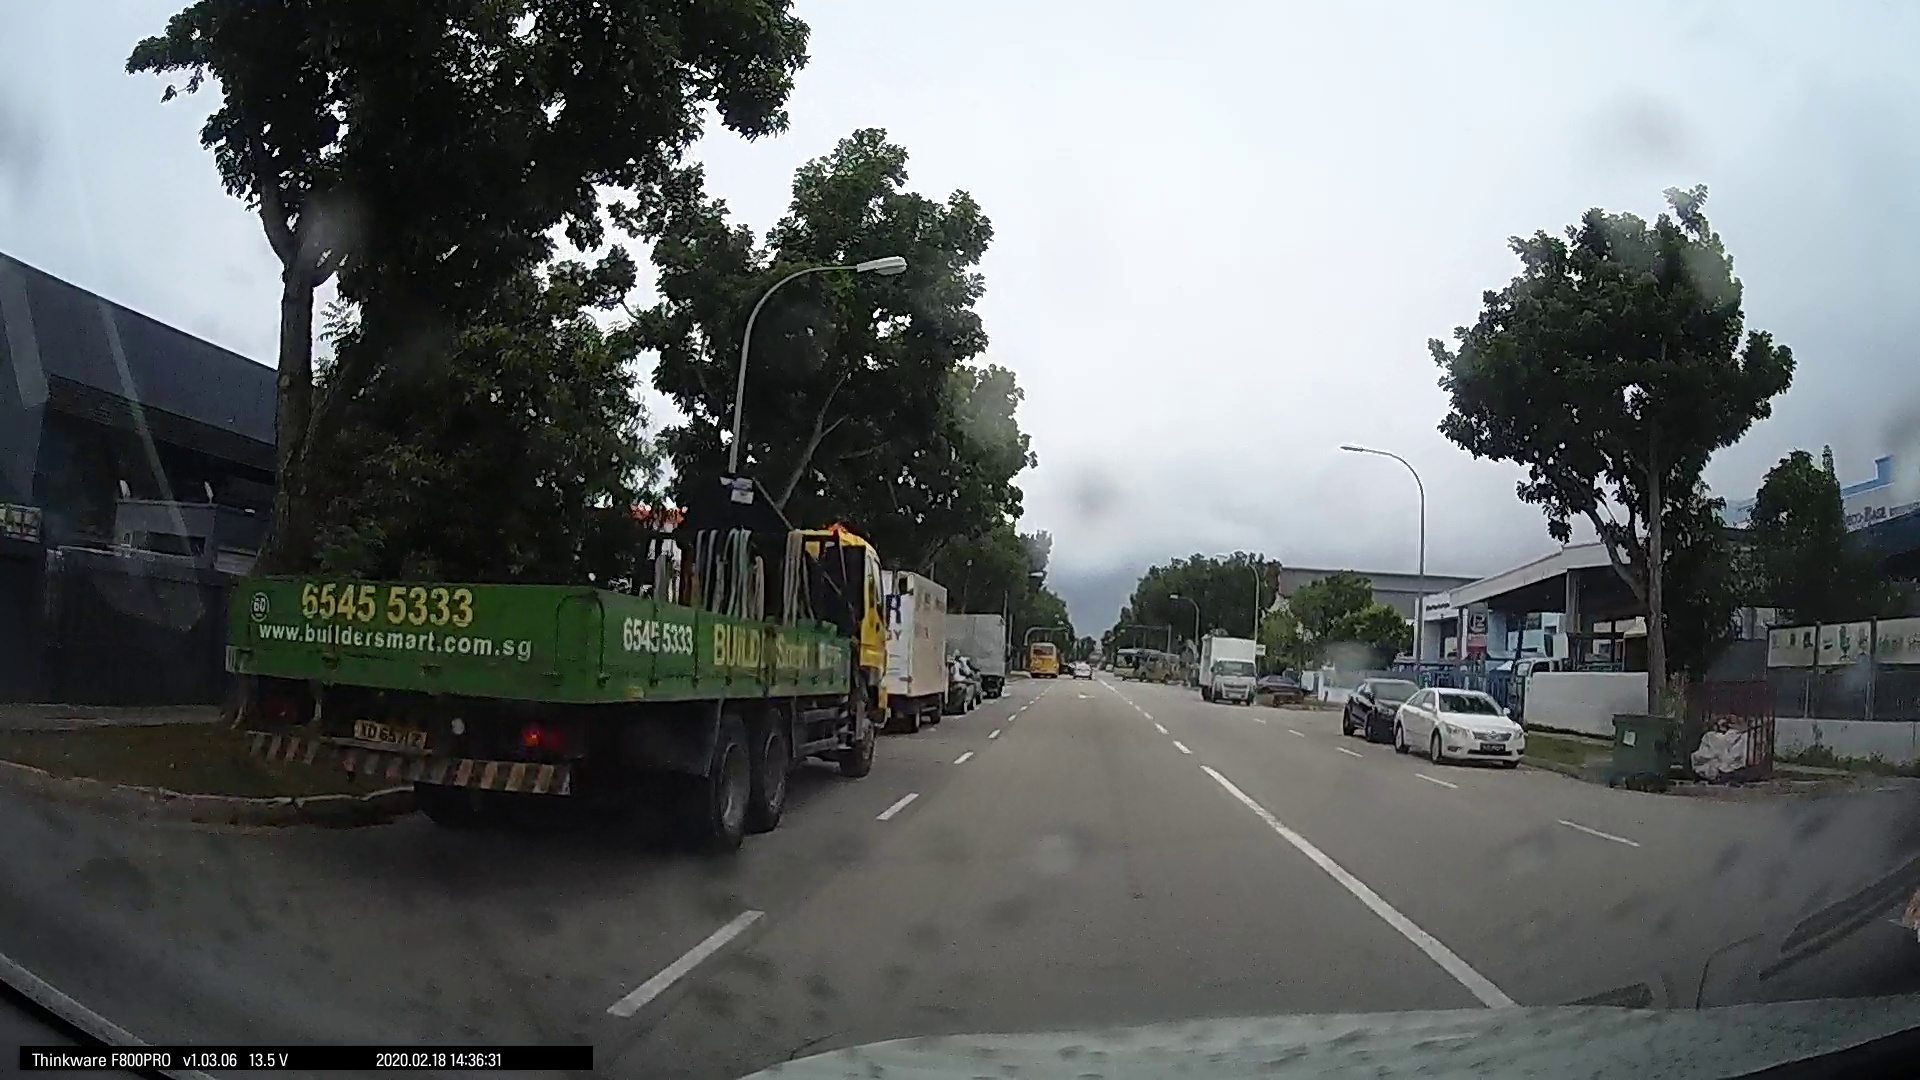Heavy Vehicle: (243, 459, 876, 832), (873, 570, 978, 732), (1193, 634, 1255, 703)
Light Vehicle: (1387, 679, 1523, 767), (1337, 669, 1414, 742)
